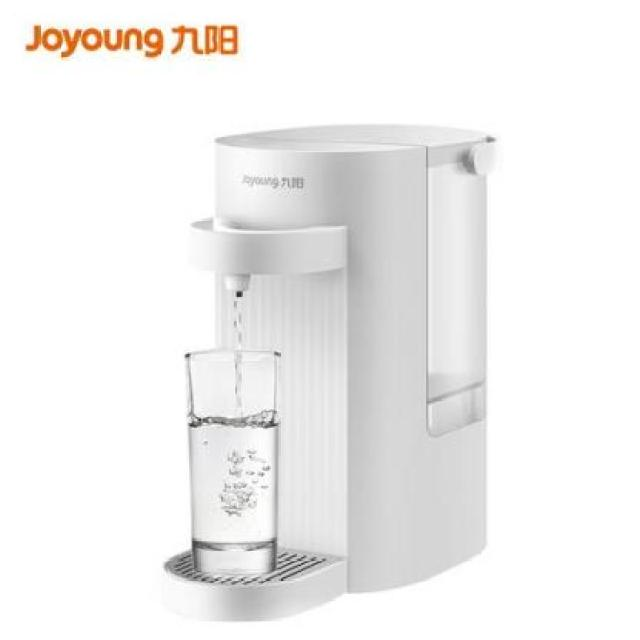cooler: (160, 121, 499, 624)
